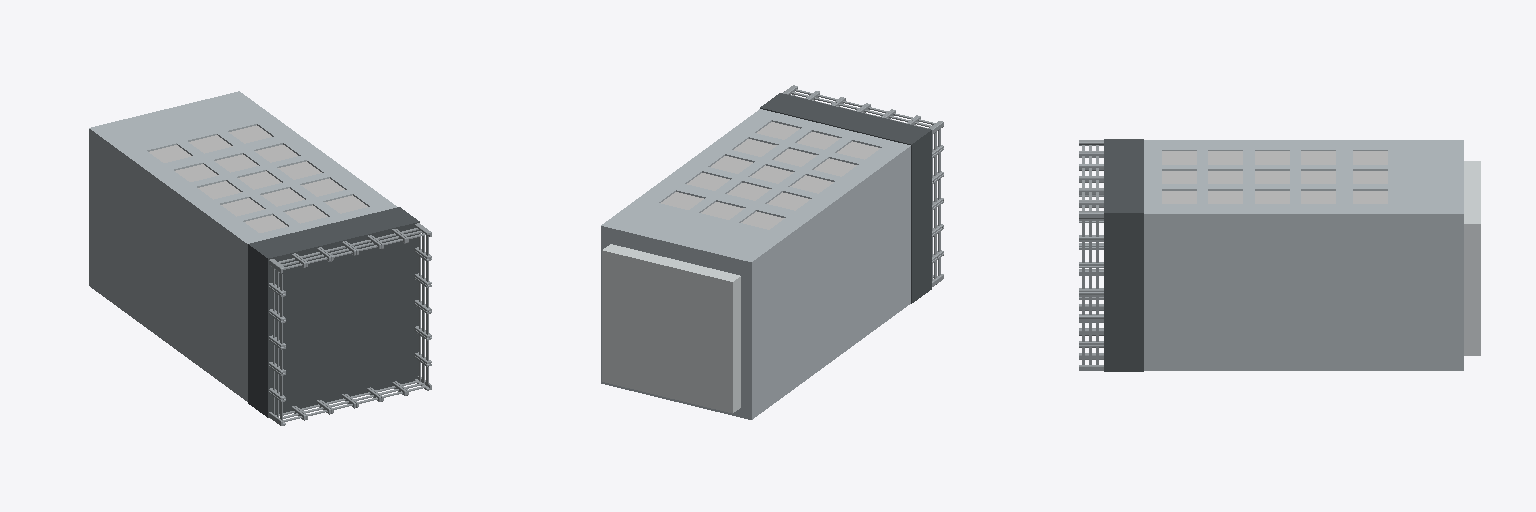
File: tinker 4.obj
3 views of the same model, side by side, from view 1: azimuth 30°, elevation 25°; view 2: azimuth 150°, elevation 25°; view 3: azimuth 270°, elevation 25° (orthographic).
Visible parts, largest first — view 1: obj_0; view 2: obj_0; view 3: obj_0.
Boxes of the visible parts, x1,y1,x2,y2 form: obj_0: [89, 91, 431, 425]; obj_0: [601, 85, 943, 419]; obj_0: [1079, 139, 1480, 371].
Bounding box in the file's own units: 30.2 × 30.5 × 69.3.